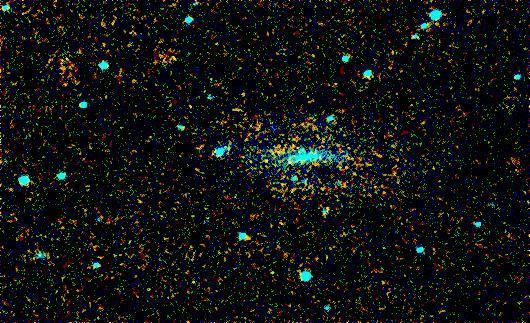star: (253, 109, 283, 139)
